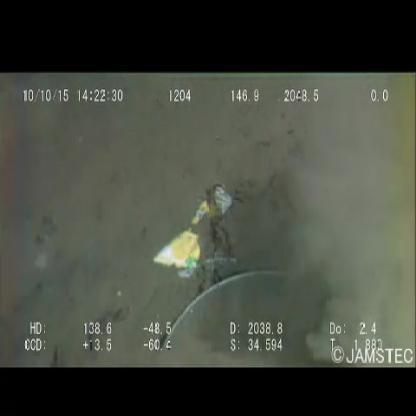Rác: (152, 185, 234, 280)
